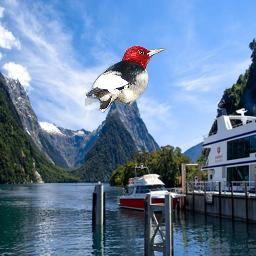Woodpecker: (85, 45, 167, 113)
